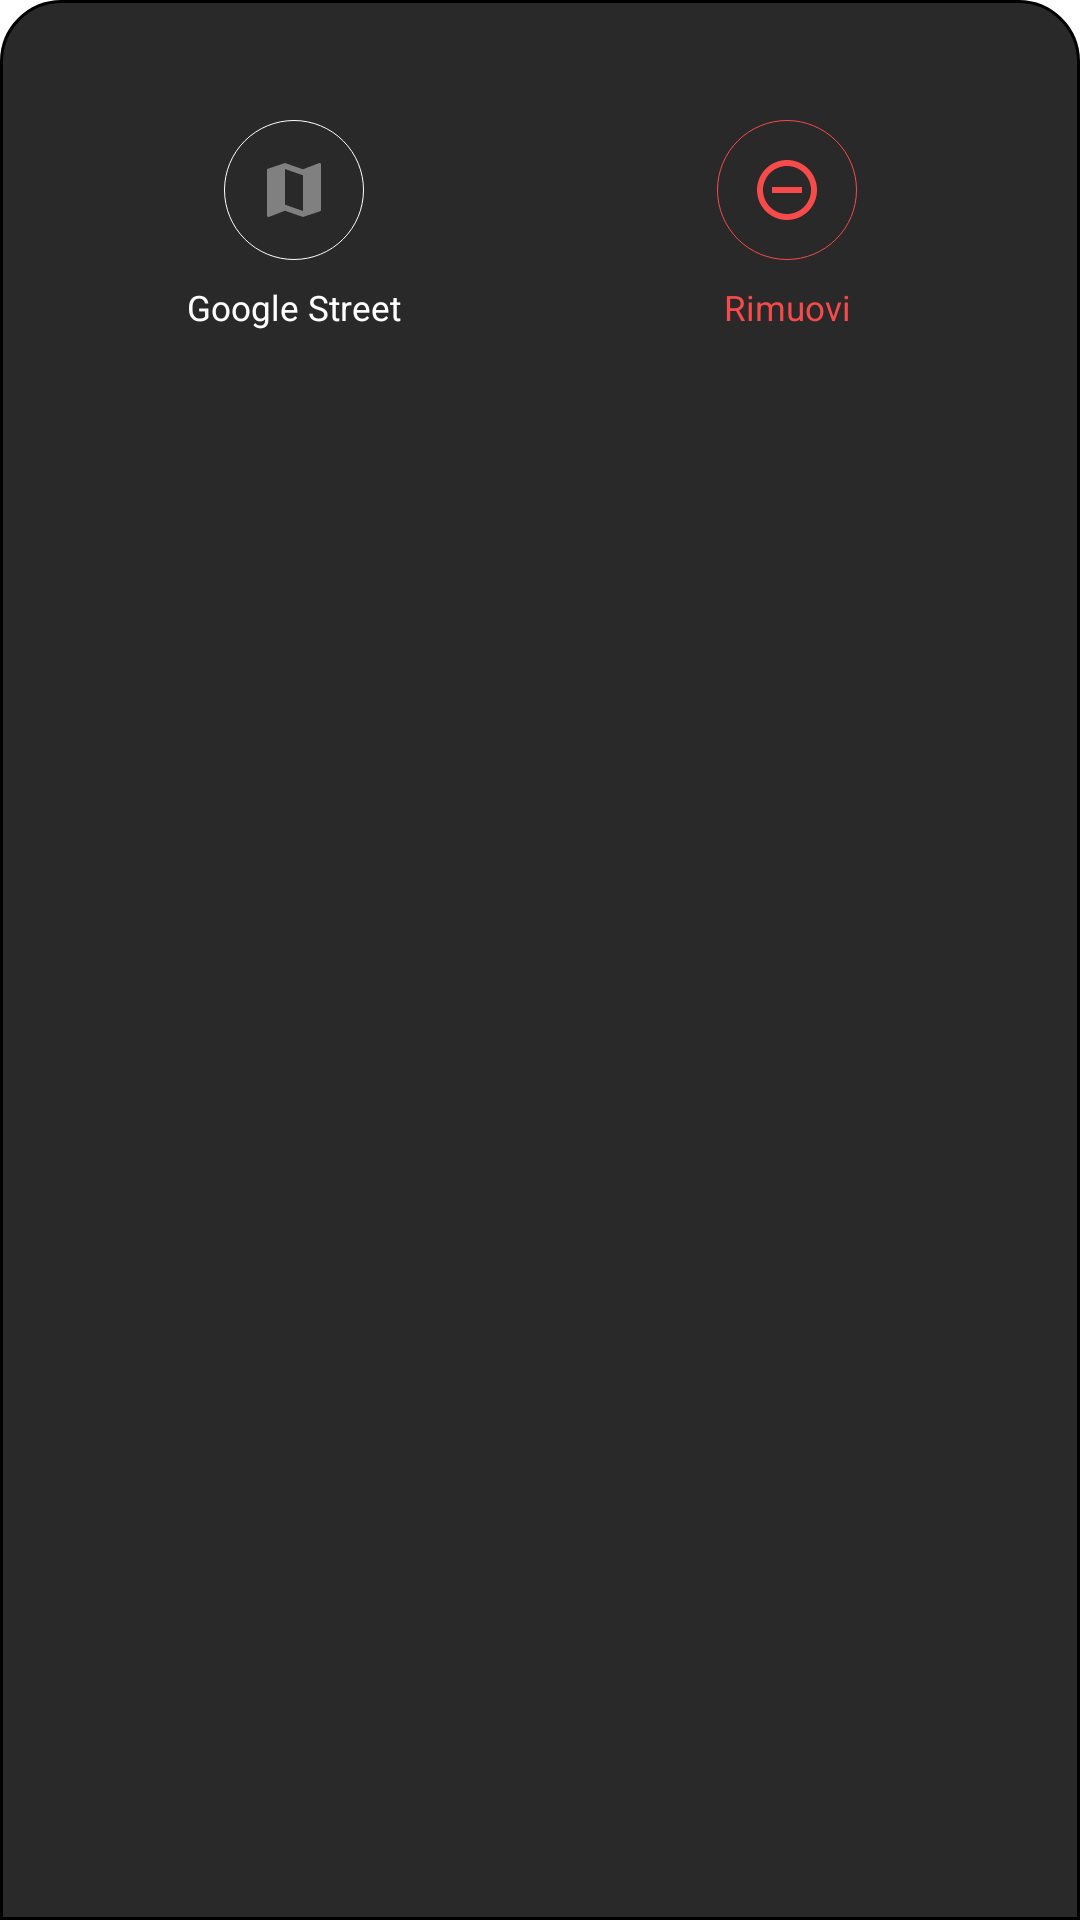

Icon bounding boxes for this 1080x1920 phone screenshot, format {"left": x1, "top": y1, "right": x2, "bottom": y2}:
map: {"left": 224, "top": 120, "right": 364, "bottom": 260}
remove circle: {"left": 717, "top": 120, "right": 857, "bottom": 260}
